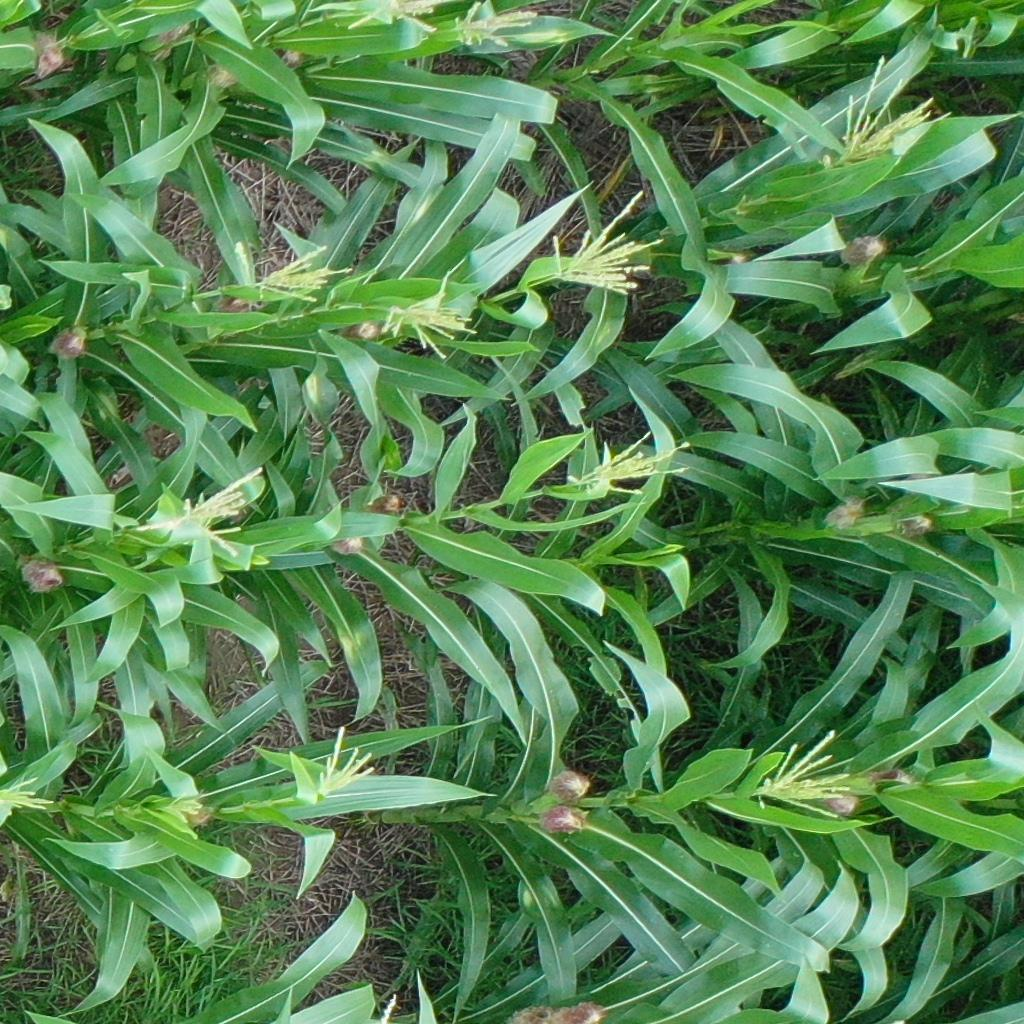Tassel: (542, 186, 659, 292), (841, 50, 951, 161), (155, 465, 267, 564), (378, 268, 481, 362), (566, 428, 693, 503), (759, 727, 854, 819), (233, 246, 355, 307), (312, 724, 374, 805), (450, 1, 541, 50), (346, 1, 444, 36), (1, 775, 55, 820), (158, 784, 206, 830)
